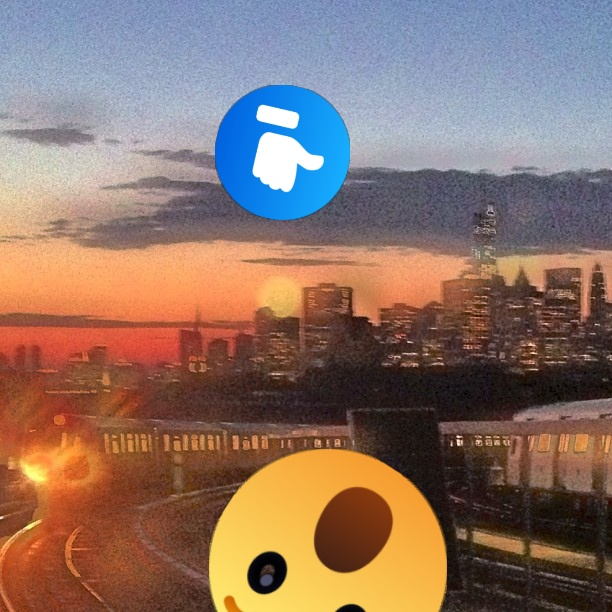like: (215, 85, 350, 220)
wow: (209, 449, 447, 612)
